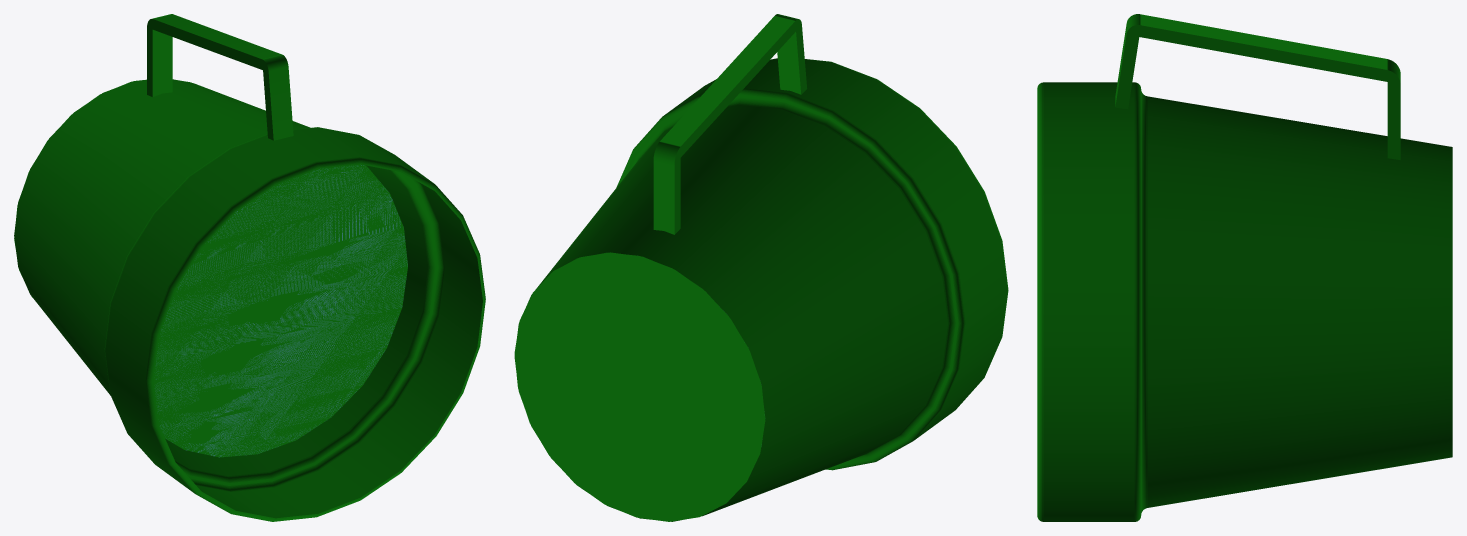
The model's file is model_align.obj.
3 renders of one model, left to right at view 1: azimuth 30°, elevation 25°; view 2: azimuth 150°, elevation 25°; view 3: azimuth 270°, elevation 25°, orthographic. The views are drawn at different scales.
Parts seen in each view (by area): view 1: mesh1_mesh1-geometry, mesh4_mesh4-geometry, mesh3_mesh3-geometry; view 2: mesh1_mesh1-geometry, mesh2_mesh2-geometry, mesh3_mesh3-geometry; view 3: mesh1_mesh1-geometry, mesh3_mesh3-geometry.
Boxes of the visible parts, <box> form: mesh1_mesh1-geometry: <box>14,79,485,521</box>; mesh4_mesh4-geometry: <box>153,164,407,457</box>; mesh3_mesh3-geometry: <box>147,14,293,140</box>; mesh1_mesh1-geometry: <box>514,58,1008,521</box>; mesh2_mesh2-geometry: <box>514,252,765,521</box>; mesh3_mesh3-geometry: <box>653,14,807,234</box>; mesh1_mesh1-geometry: <box>1037,82,1452,521</box>; mesh3_mesh3-geometry: <box>1115,14,1400,159</box>.
Bounding box in the file's own units: 0.0921 × 0.1112 × 0.0867.
